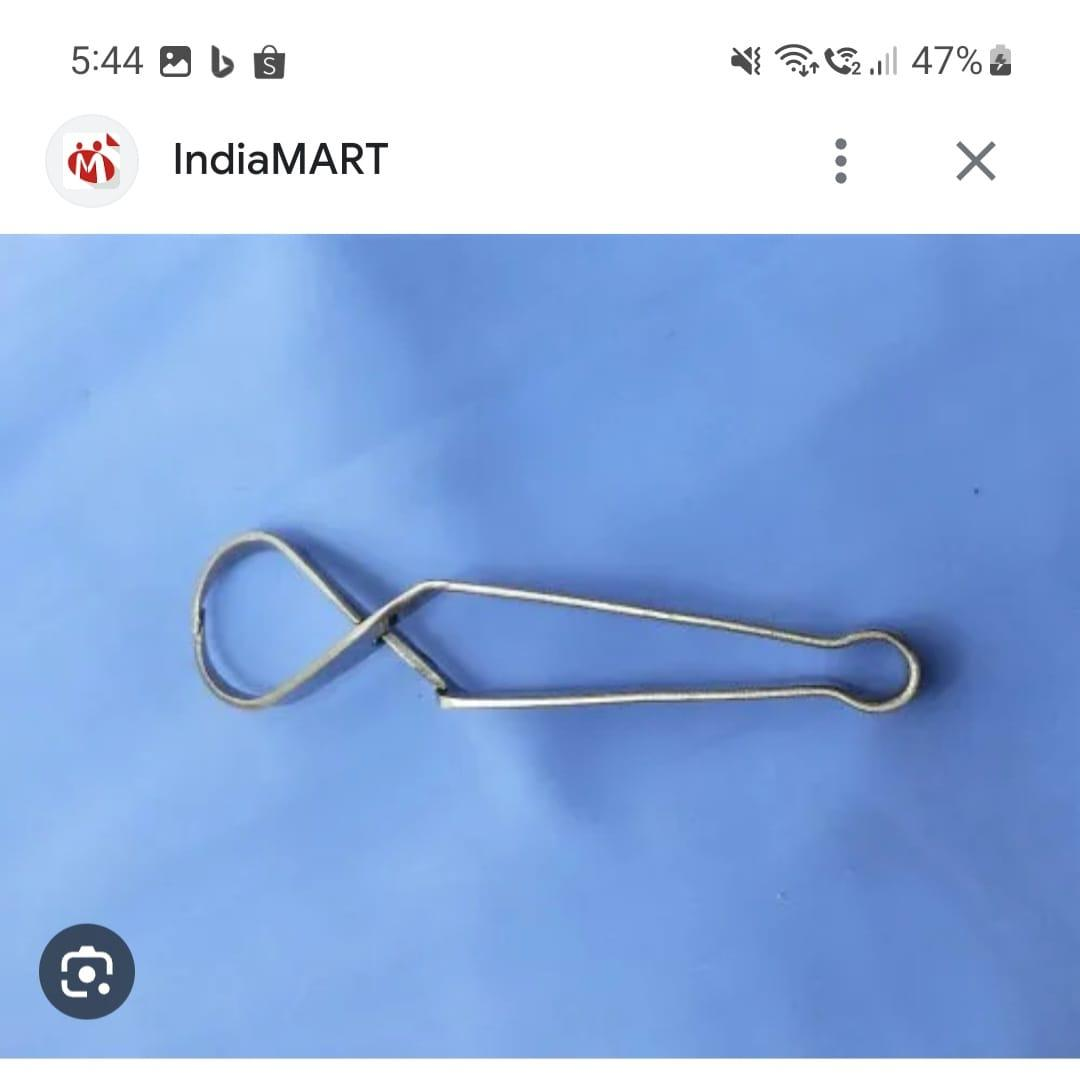Doyen Cross Action Towel Clamp: (180, 518, 942, 745)
